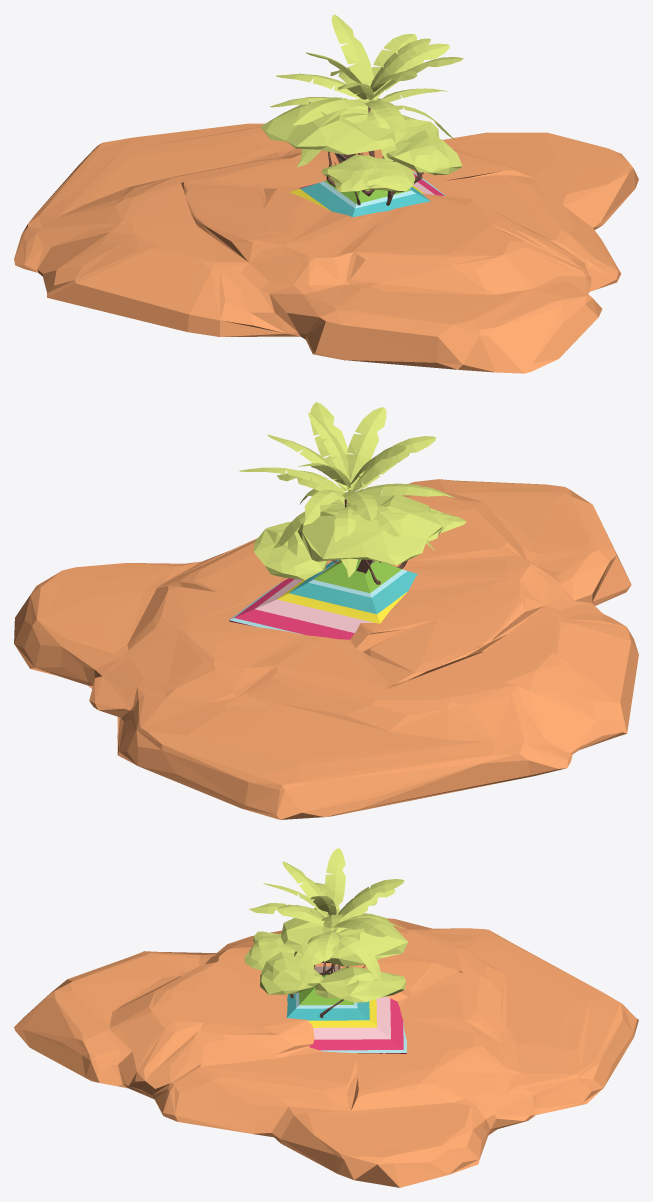
The model's file is scatter.glb.
The picture shows the model from 3 angles, top to bottom: view 1: azimuth 30°, elevation 25°; view 2: azimuth 150°, elevation 25°; view 3: azimuth 270°, elevation 25°; orthographic projection. The views are drawn at different scales.
Parts seen in each view (by area): view 1: s_stall, s_tree; view 2: s_stall, s_tree; view 3: s_stall, s_tree.
Boxes of the visible parts, x1=… form: s_stall: x1=14, y1=14, x2=638, y2=373; s_tree: x1=261, y1=99, x2=462, y2=205; s_stall: x1=14, y1=402, x2=638, y2=819; s_tree: x1=253, y1=492, x2=466, y2=584; s_stall: x1=14, y1=848, x2=638, y2=1187; s_tree: x1=244, y1=907, x2=408, y2=1017.
Size of the model in its own units: 26.72 by 9.99 by 28.63.
1 material, 1 textured.
